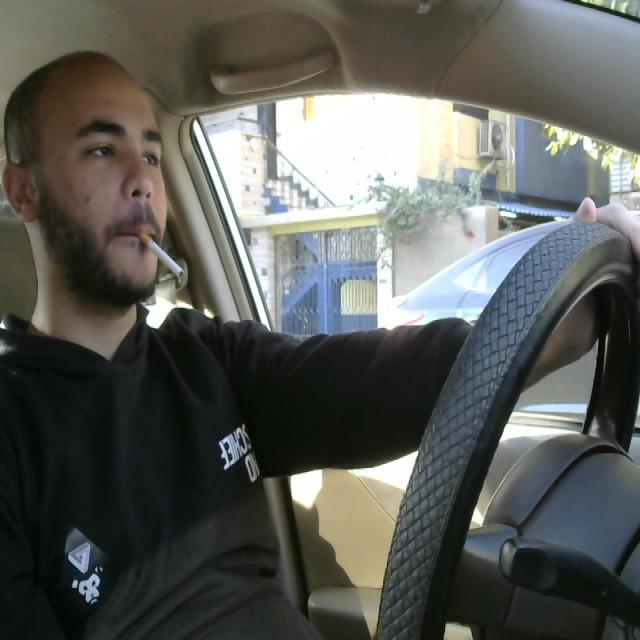smoking: (128, 214, 190, 284)
